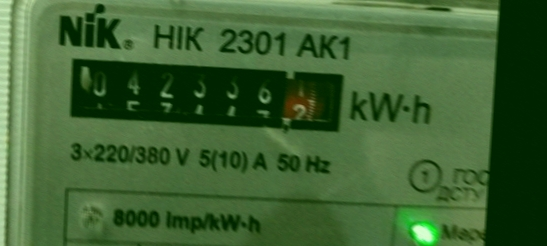0: (90, 67, 108, 95)
1: (293, 73, 307, 96)
2: (158, 67, 176, 97), (290, 99, 307, 118)
3: (222, 68, 240, 99), (190, 68, 207, 97)
4: (124, 64, 143, 94)
6: (256, 72, 275, 103)
screen: (56, 42, 357, 141)
